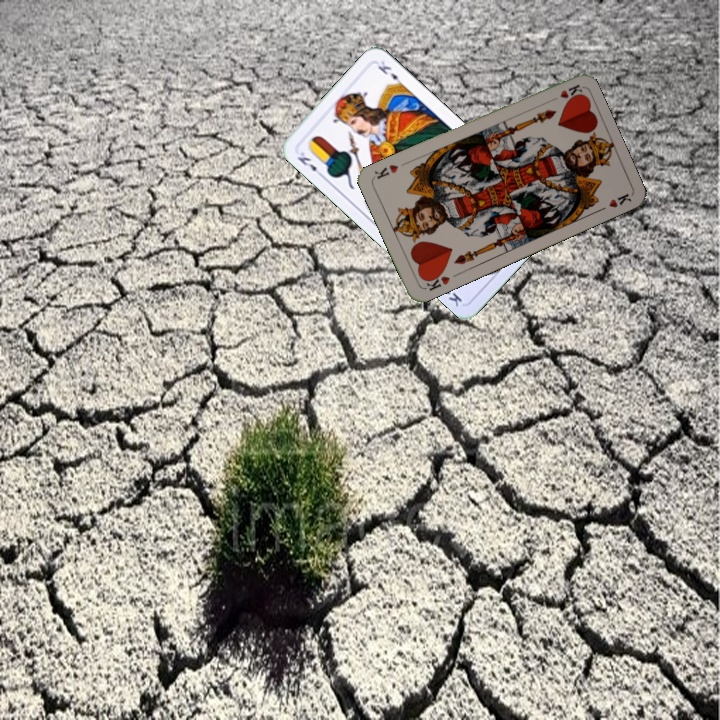EK: (293, 148, 326, 180)
HK: (544, 80, 584, 106), (421, 268, 453, 293)
